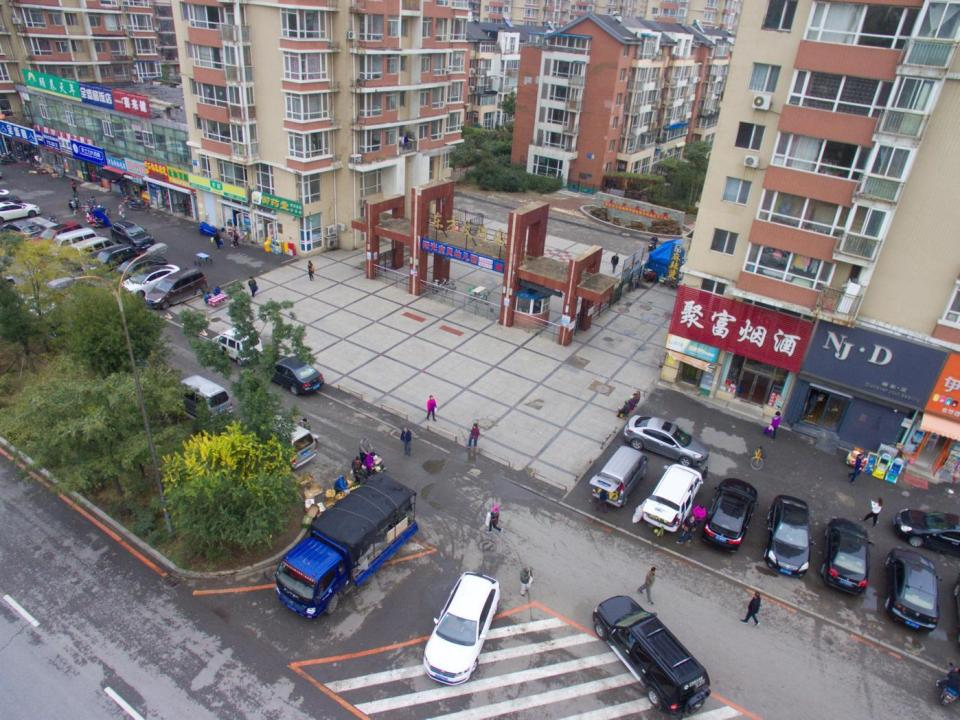car: (422, 569, 500, 684), (883, 547, 943, 634), (625, 411, 707, 468), (702, 478, 759, 555), (765, 494, 814, 576), (822, 519, 874, 596), (891, 509, 959, 552), (261, 354, 320, 397), (103, 255, 168, 289), (121, 264, 180, 297), (85, 245, 140, 280), (109, 219, 155, 252), (23, 293, 61, 328), (34, 222, 83, 247), (1, 220, 46, 243), (0, 199, 40, 223)
truck: (273, 477, 416, 617)
van: (593, 592, 711, 715), (642, 463, 703, 537), (590, 445, 649, 512), (253, 414, 318, 471), (172, 374, 233, 431), (147, 268, 209, 308), (60, 236, 116, 268), (213, 330, 262, 364), (50, 229, 98, 255)
